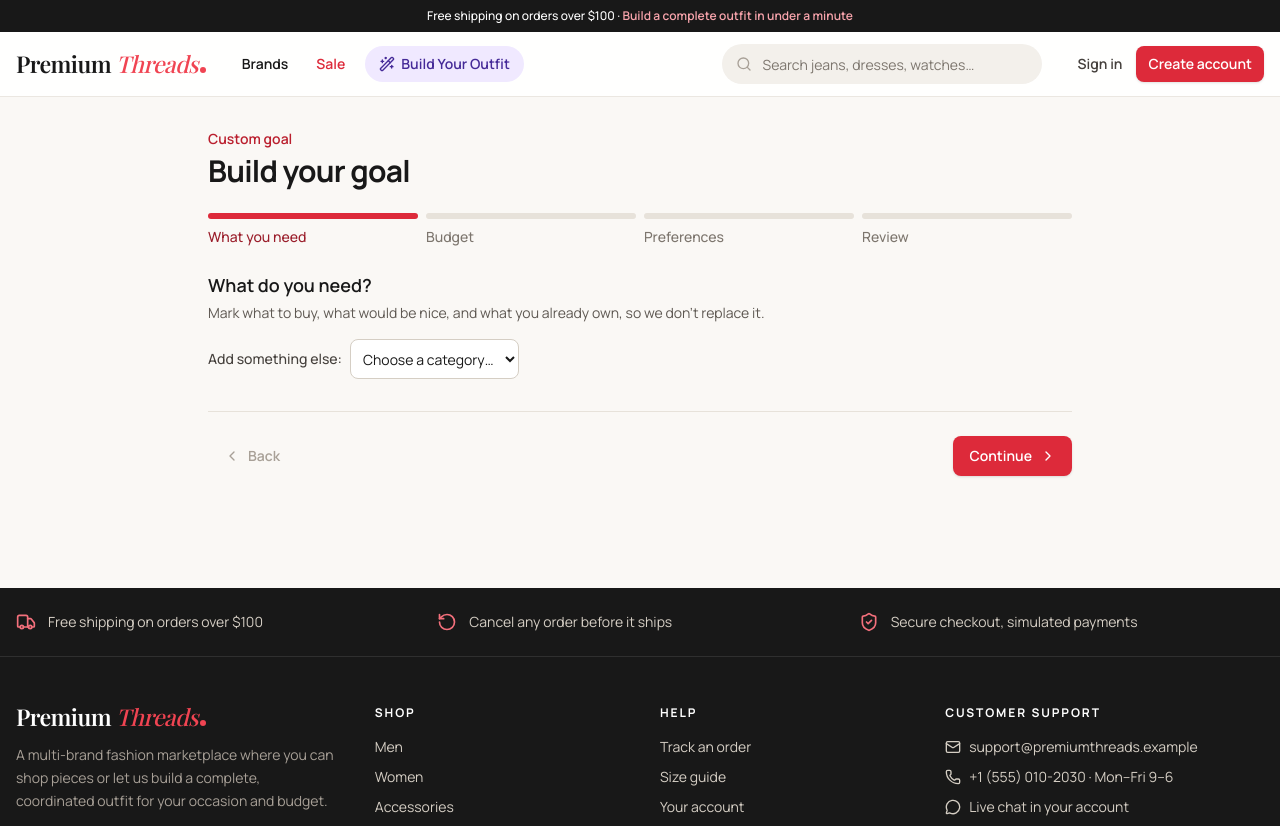
Test case: goal-based shopping › does not continue until something is selected to buy
This screenshot has width=1280, height=826.
Click the button "Continue": (1013, 456) top-left (953, 436), bottom-right (1072, 476)
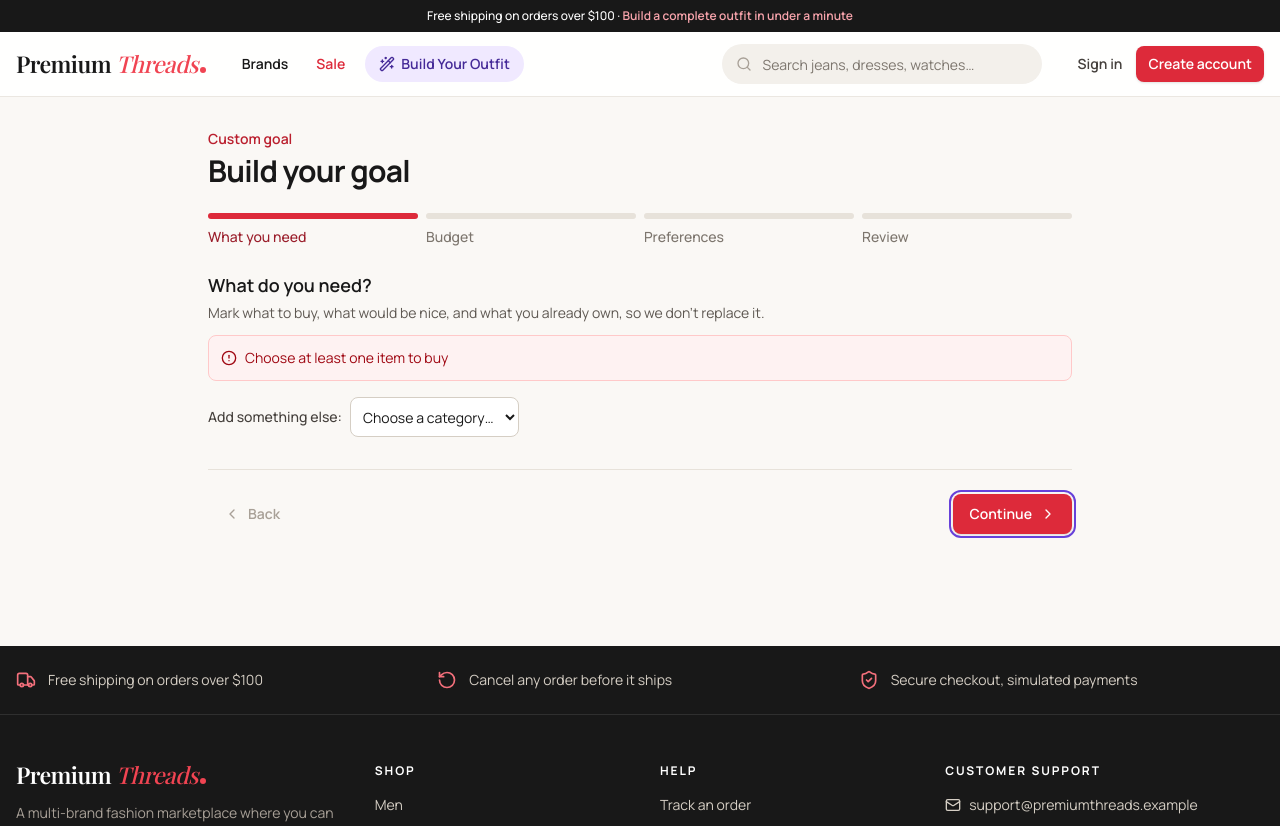
Now the text "Choose at least one item to buy" is shown, box top-left (245, 348), bottom-right (448, 368)
Select "Tops" in the dropdown named "Add a category": (434, 417) top-left (350, 397), bottom-right (519, 437)
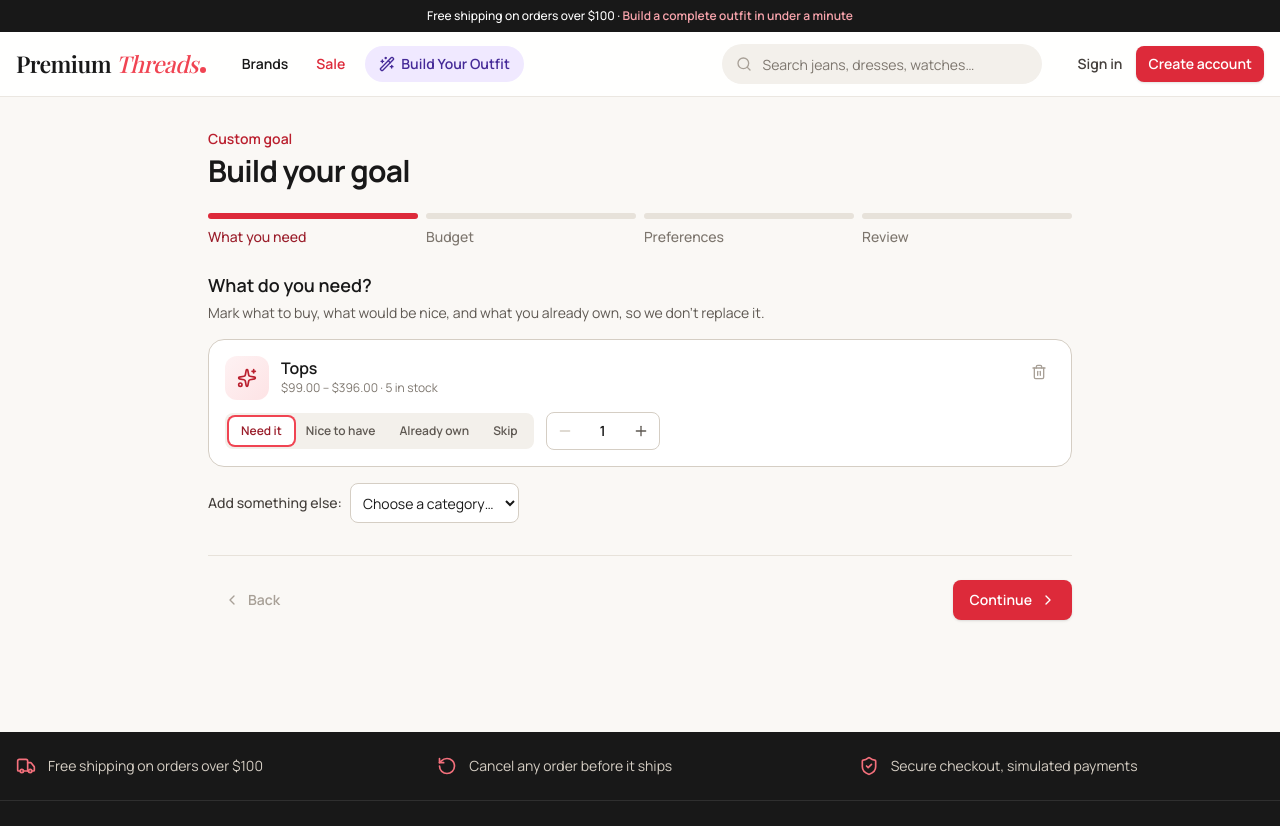
Click the button "Continue": (1013, 600) top-left (953, 580), bottom-right (1072, 620)
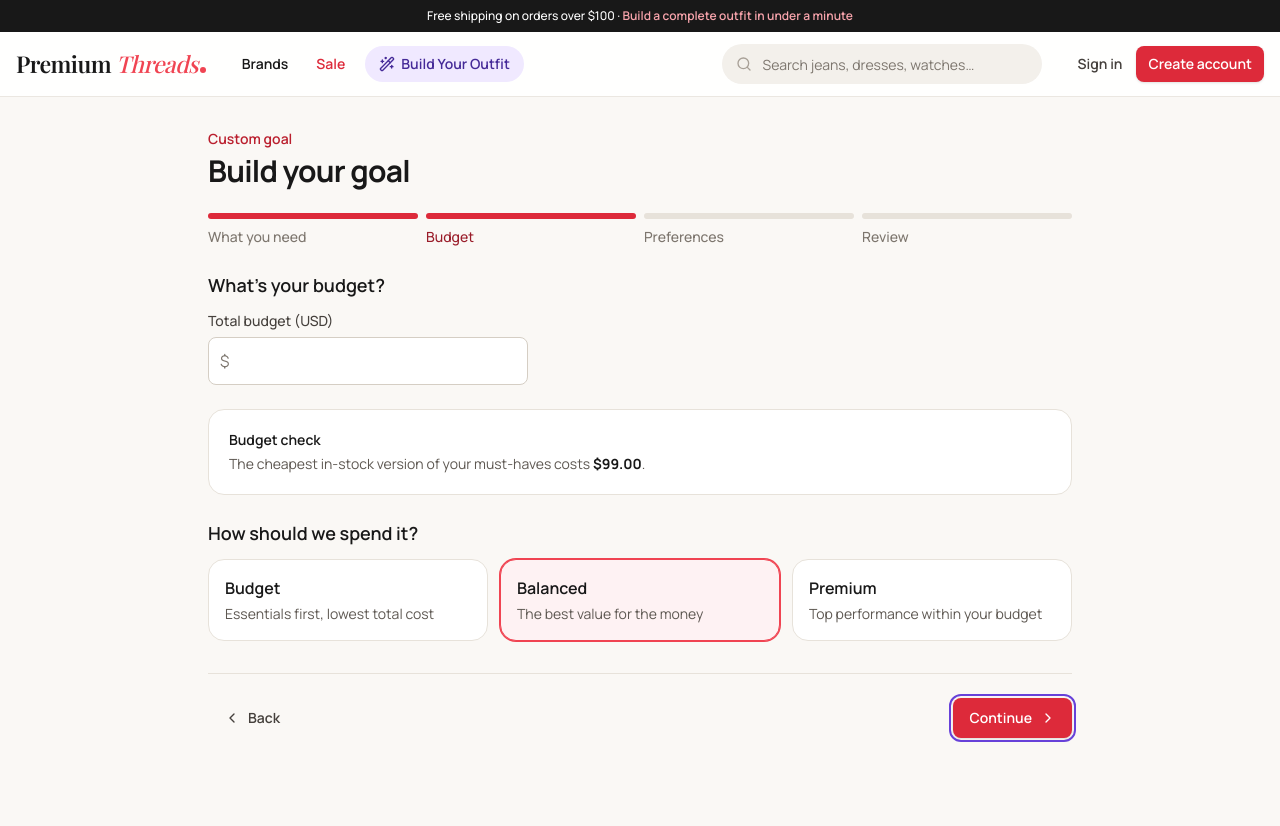
Now the number field labelled "Total budget (USD)" is shown, box top-left (208, 337), bottom-right (528, 385)
